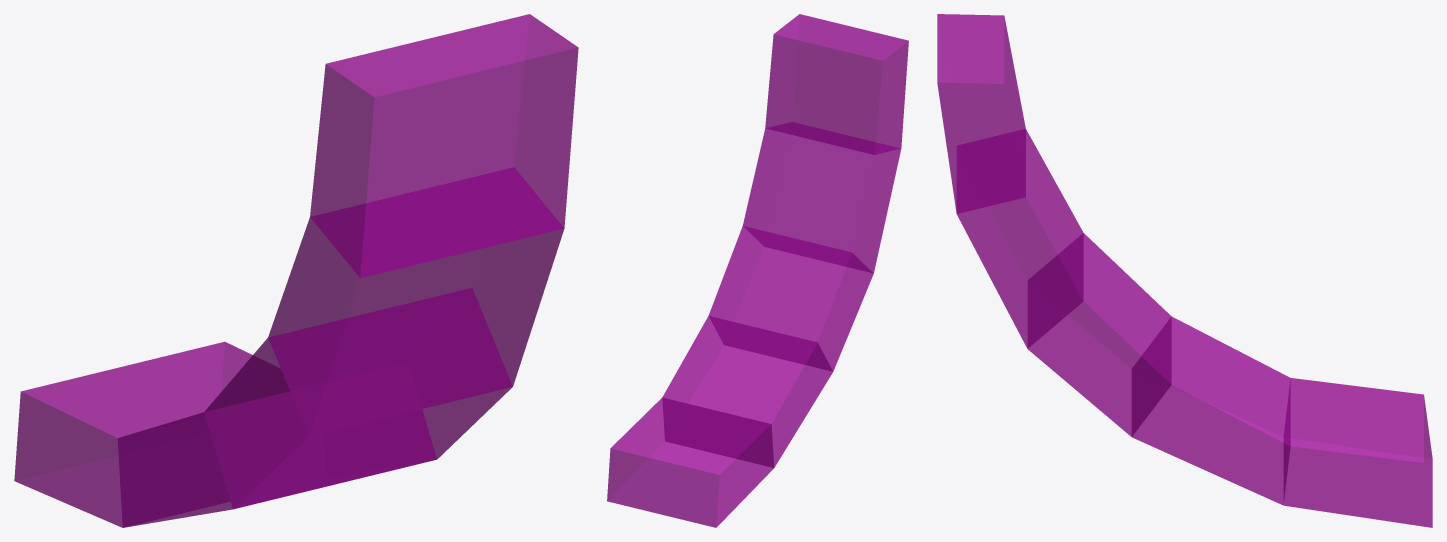
File: SM_Prop_Pipe_Bend_01_Collision.fbx
The picture shows the model from 3 angles, left to right: view 1: azimuth 30°, elevation 25°; view 2: azimuth 150°, elevation 25°; view 3: azimuth 270°, elevation 25°; orthographic projection. The views are drawn at different scales.
Parts seen in each view (by area): view 1: SM_Prop_Pipe_Bend_01_Collision; view 2: SM_Prop_Pipe_Bend_01_Collision; view 3: SM_Prop_Pipe_Bend_01_Collision.
Part boxes in pixels (x1,y1,x2,y2): SM_Prop_Pipe_Bend_01_Collision: (14,14,578,527); SM_Prop_Pipe_Bend_01_Collision: (607,14,908,527); SM_Prop_Pipe_Bend_01_Collision: (937,14,1432,527).
Size of the model in its own units: 44.73 by 135 by 137.
